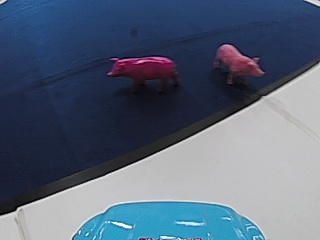pig: (104, 52, 182, 92), (213, 40, 264, 85)
